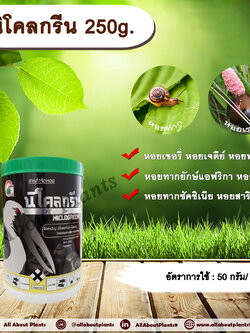Insecticide: (2, 150, 88, 312)
